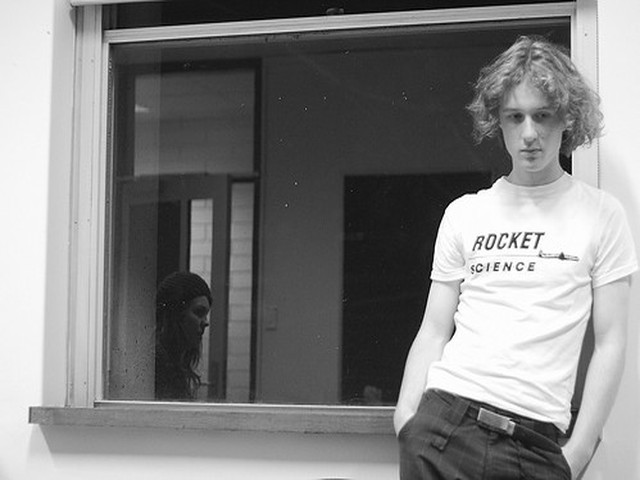Person: (390, 29, 637, 480), (156, 253, 212, 398)
